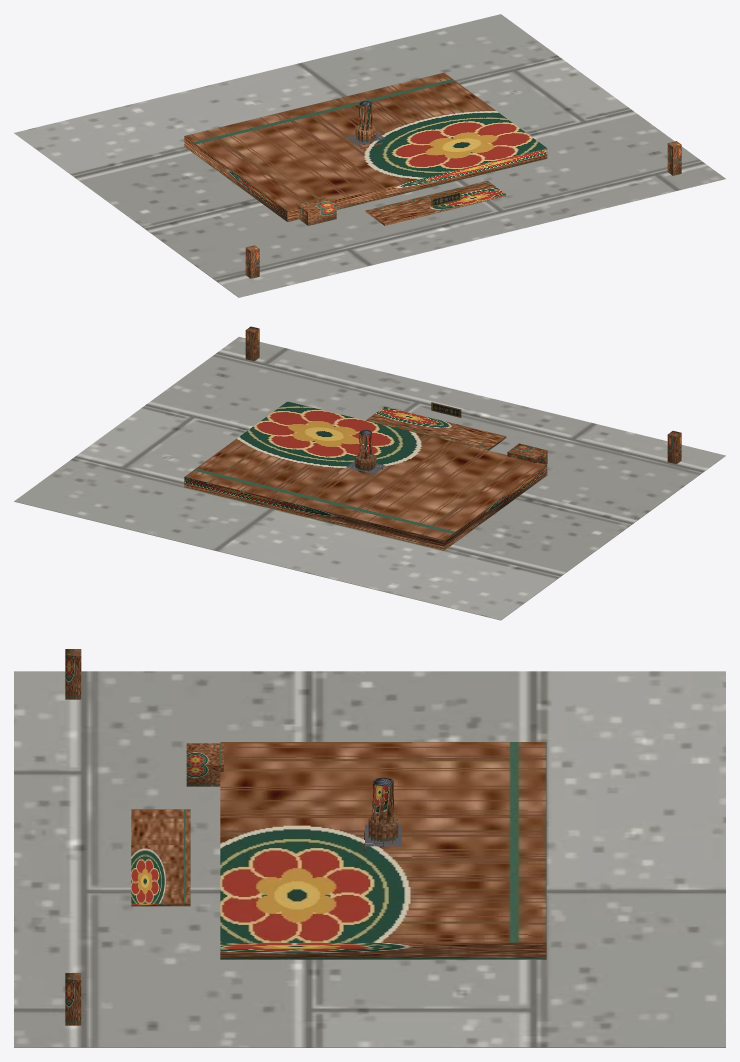
3 views of the same model, one above another, from view 1: azimuth 30°, elevation 25°; view 2: azimuth 150°, elevation 25°; view 3: azimuth 270°, elevation 25° (orthographic). The views are drawn at different scales.
Visible parts, largest first — view 1: 11710_01_05540_012_01_L2__base, 11710_01_05540_012_02_L2__body, 11710_01_05540_012_06_L2__green; view 2: 11710_01_05540_012_01_L2__base, 11710_01_05540_012_02_L2__body, 11710_01_05540_012_06_L2__green; view 3: 11710_01_05540_012_01_L2__base, 11710_01_05540_012_02_L2__body, 11710_01_05540_012_06_L2__green.
Part boxes in pixels (x1=…): 11710_01_05540_012_01_L2__base: x1=14, y1=14, x2=725, y2=297; 11710_01_05540_012_02_L2__body: x1=184, y1=72, x2=547, y2=225; 11710_01_05540_012_06_L2__green: x1=245, y1=141, x2=681, y2=278; 11710_01_05540_012_01_L2__base: x1=14, y1=337, x2=725, y2=620; 11710_01_05540_012_02_L2__body: x1=184, y1=401, x2=547, y2=550; 11710_01_05540_012_06_L2__green: x1=245, y1=326, x2=681, y2=464; 11710_01_05540_012_01_L2__base: x1=14, y1=671, x2=725, y2=1047; 11710_01_05540_012_02_L2__body: x1=131, y1=742, x2=546, y2=959; 11710_01_05540_012_06_L2__green: x1=65, y1=649, x2=81, y2=1025.
Size of the model in its own units: 120 by 12 by 96.
5 materials, 5 textured.
